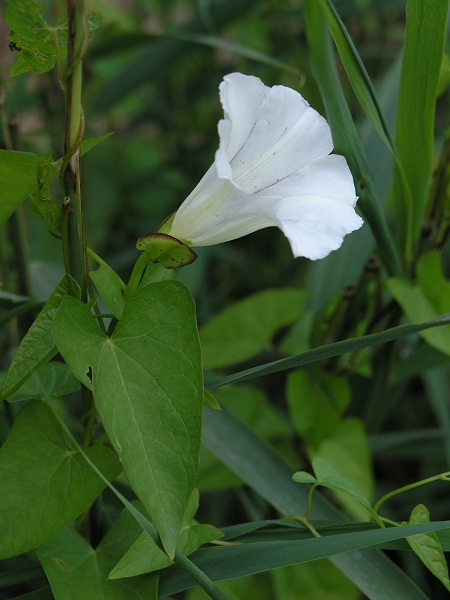haagwinde: (44, 268, 235, 574), (142, 58, 379, 296)
